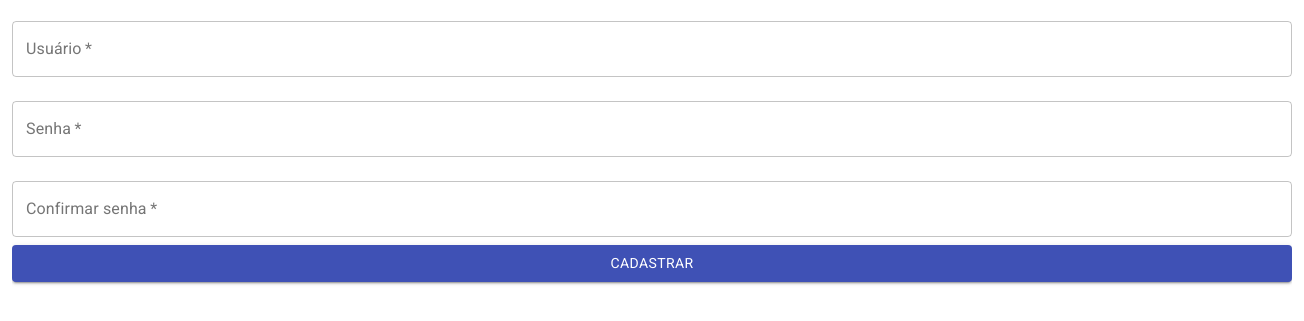
Testes de LoginFormComponent › Testes com o modo cadastrar › Deve desabilitar botão de Cadastrar quando › Senha for inválida
Type "alejandro" into the field with test id "usuario".
click(652, 49); type("alejandro")  # box [12,21,1292,77]
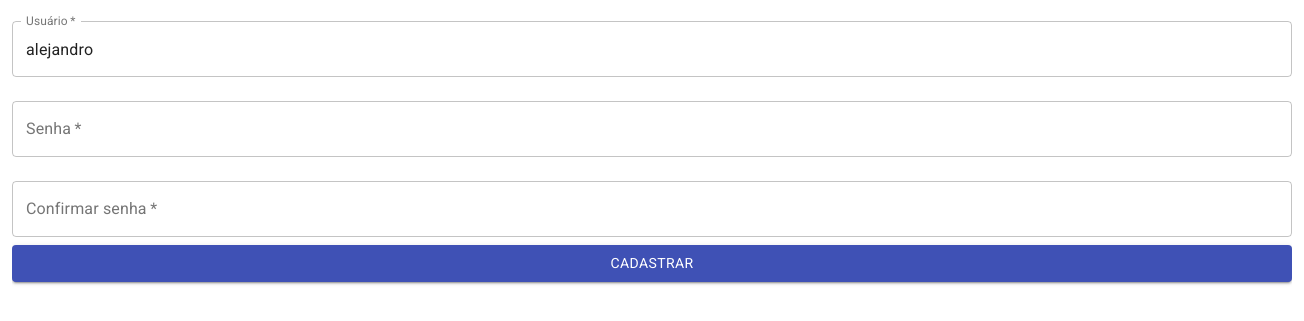
Type "the" into the password field with test id "senha".
click(652, 129); type("the")  # box [12,101,1292,157]
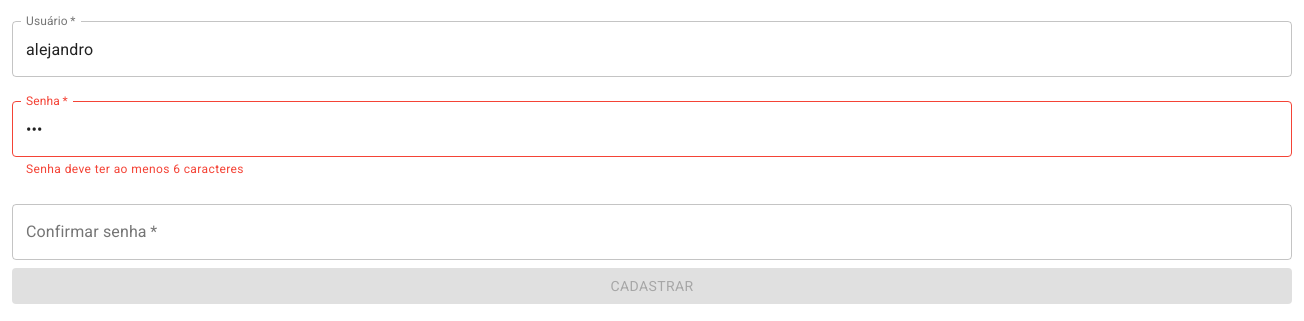
Expected: the button "Cadastrar" is disabled, [12,268,1292,304]
